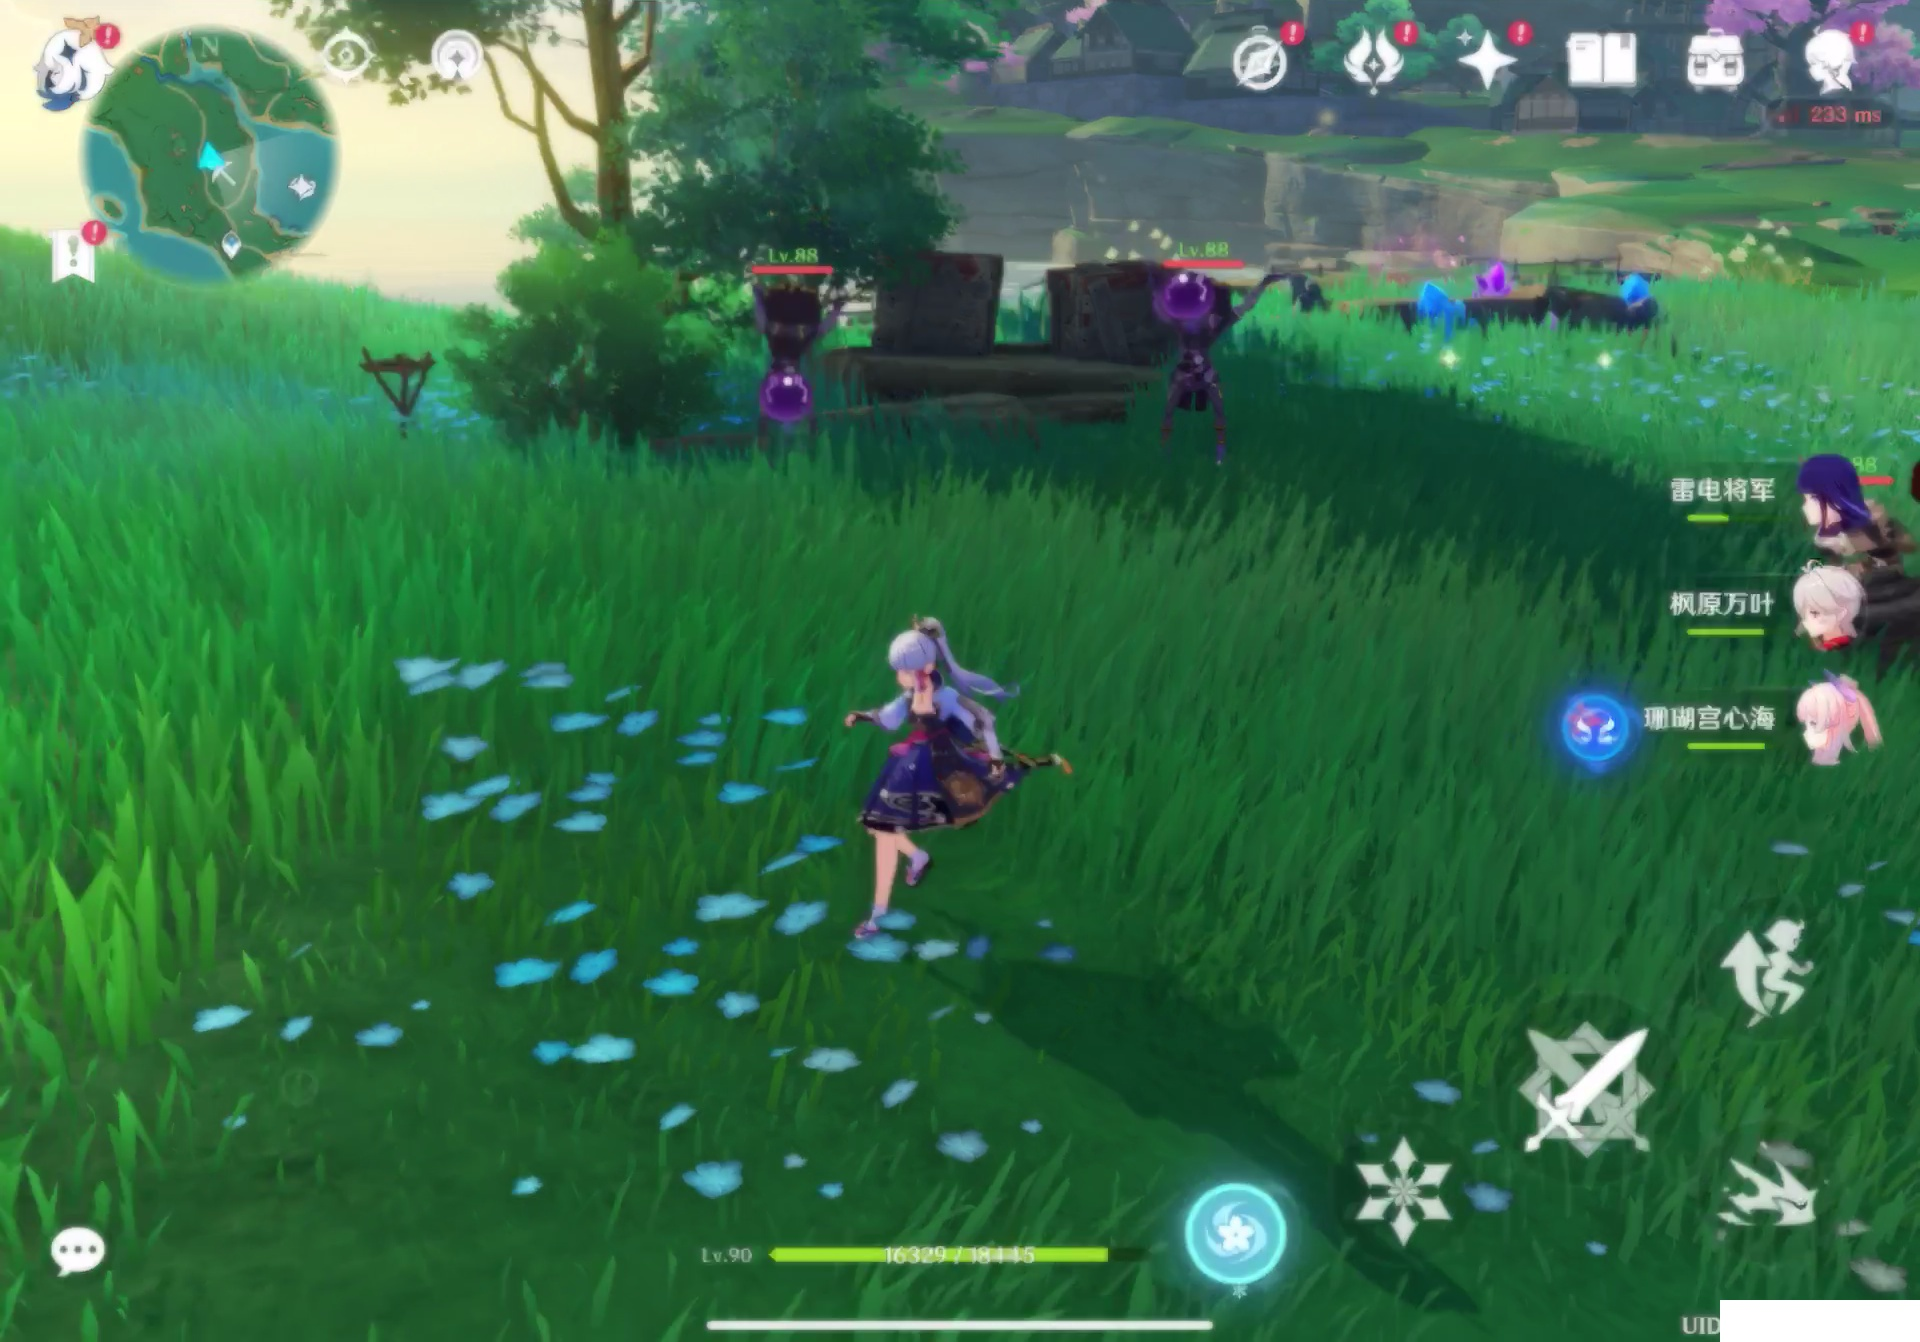丘丘人: (1150, 265, 1253, 465), (750, 287, 852, 454)
神里绫龟: (846, 607, 1050, 893)
